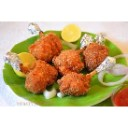chicken_lollipop: (3, 49, 57, 93), (57, 67, 112, 97), (26, 19, 63, 57), (81, 31, 111, 68), (49, 46, 85, 74)
